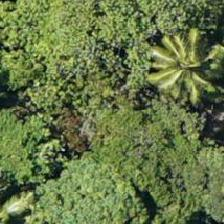coconut_tree: (127, 18, 217, 108)
